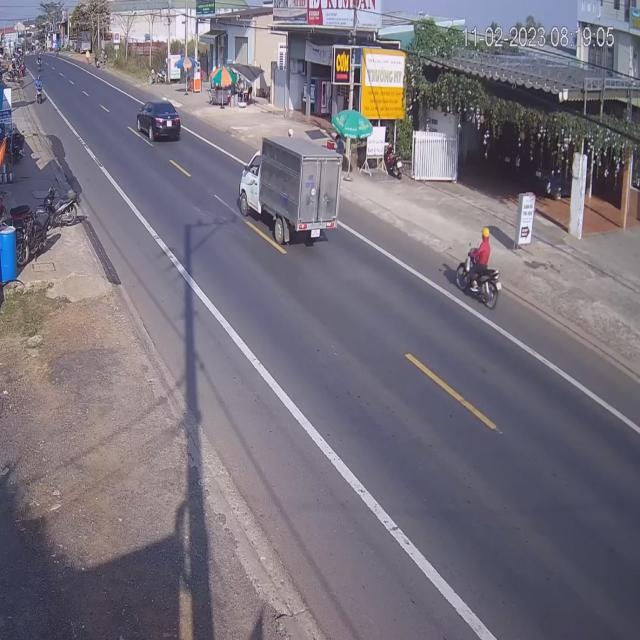car: (136, 98, 182, 143)
motorbike: (458, 228, 503, 310)
truck: (239, 123, 340, 249)
